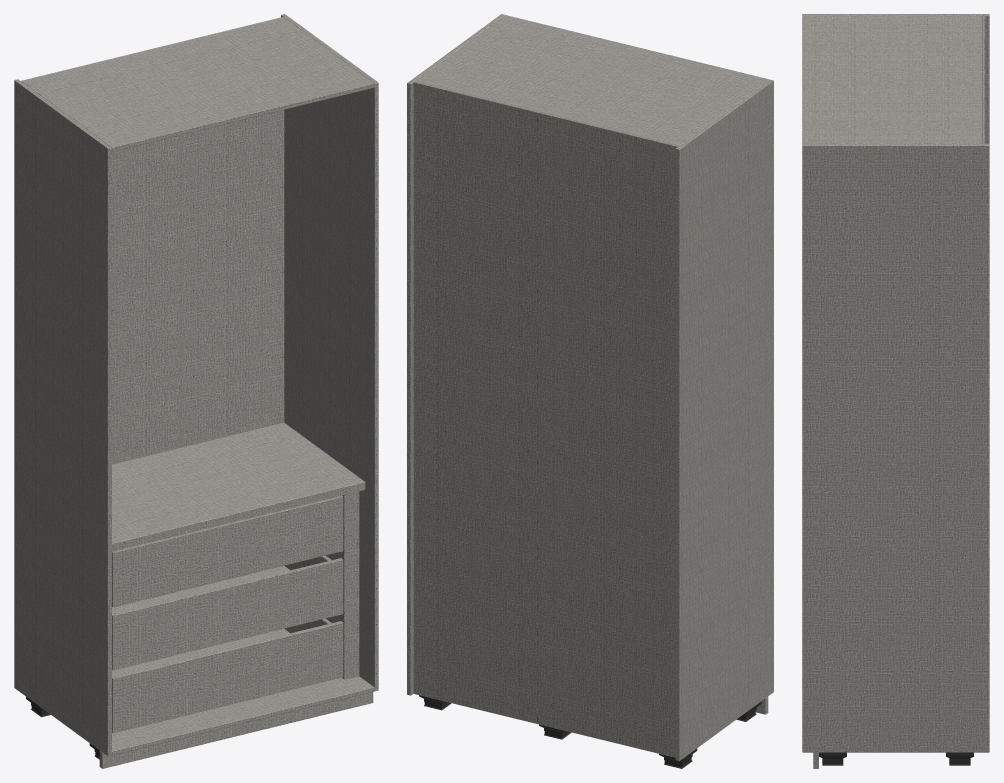
Rendered from cbib12148.gltf.
3 renders of one model, left to right at view 1: azimuth 30°, elevation 25°; view 2: azimuth 150°, elevation 25°; view 3: azimuth 270°, elevation 25°, orthographic.
Parts seen in each view (by area): view 1: CBIB12148; view 2: CBIB12148; view 3: CBIB12148.
Boxes of the visible parts, x1,y1,x2,y2 form: CBIB12148: (14,14,378,768); CBIB12148: (407,14,773,768); CBIB12148: (802,14,989,768).
Bounding box in the file's own units: 1 × 2.2 × 0.6.
3 materials, 2 textured.
